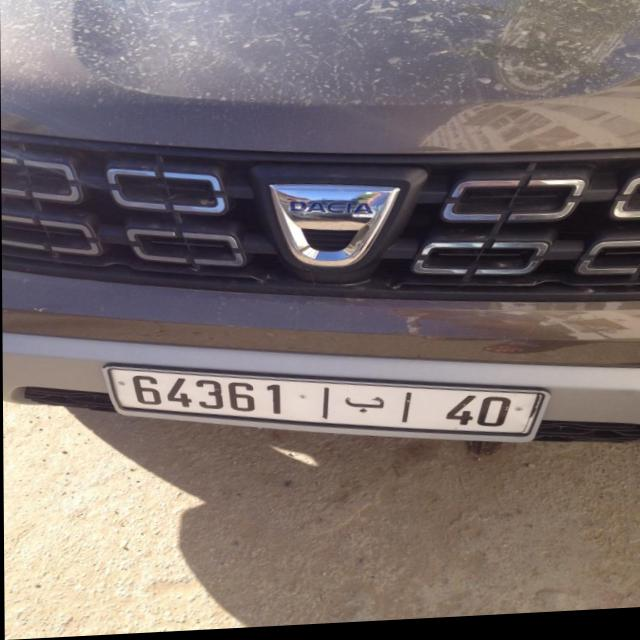License-Plate: (102, 367, 549, 447)
